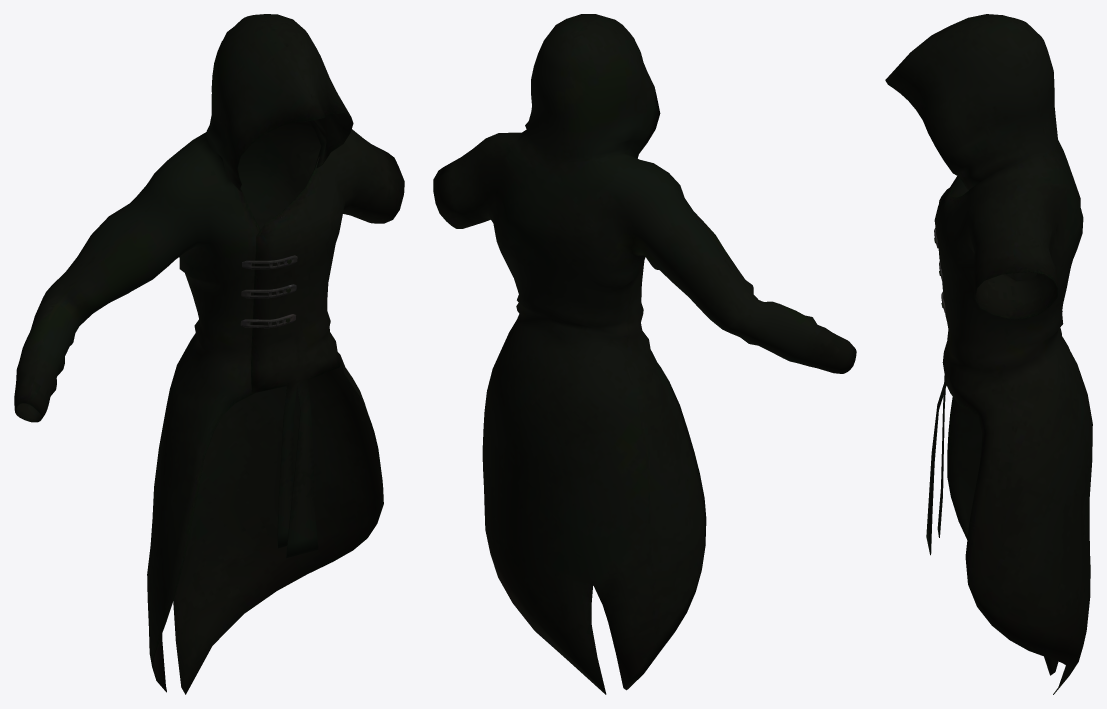
Rendered from Cloak.glb.
The picture shows the model from 3 angles, left to right: view 1: azimuth 30°, elevation 25°; view 2: azimuth 150°, elevation 25°; view 3: azimuth 270°, elevation 25°; orthographic projection. The views are drawn at different scales.
Parts seen in each view (by area): view 1: Cloak; view 2: Cloak; view 3: Cloak.
Boxes of the visible parts, <box> form: Cloak: <box>14,14,404,694</box>; Cloak: <box>433,14,856,694</box>; Cloak: <box>885,14,1092,694</box>.
Bounding box in the file's own units: 1.04 × 1.66 × 0.4444.
2 materials, 2 textured.
